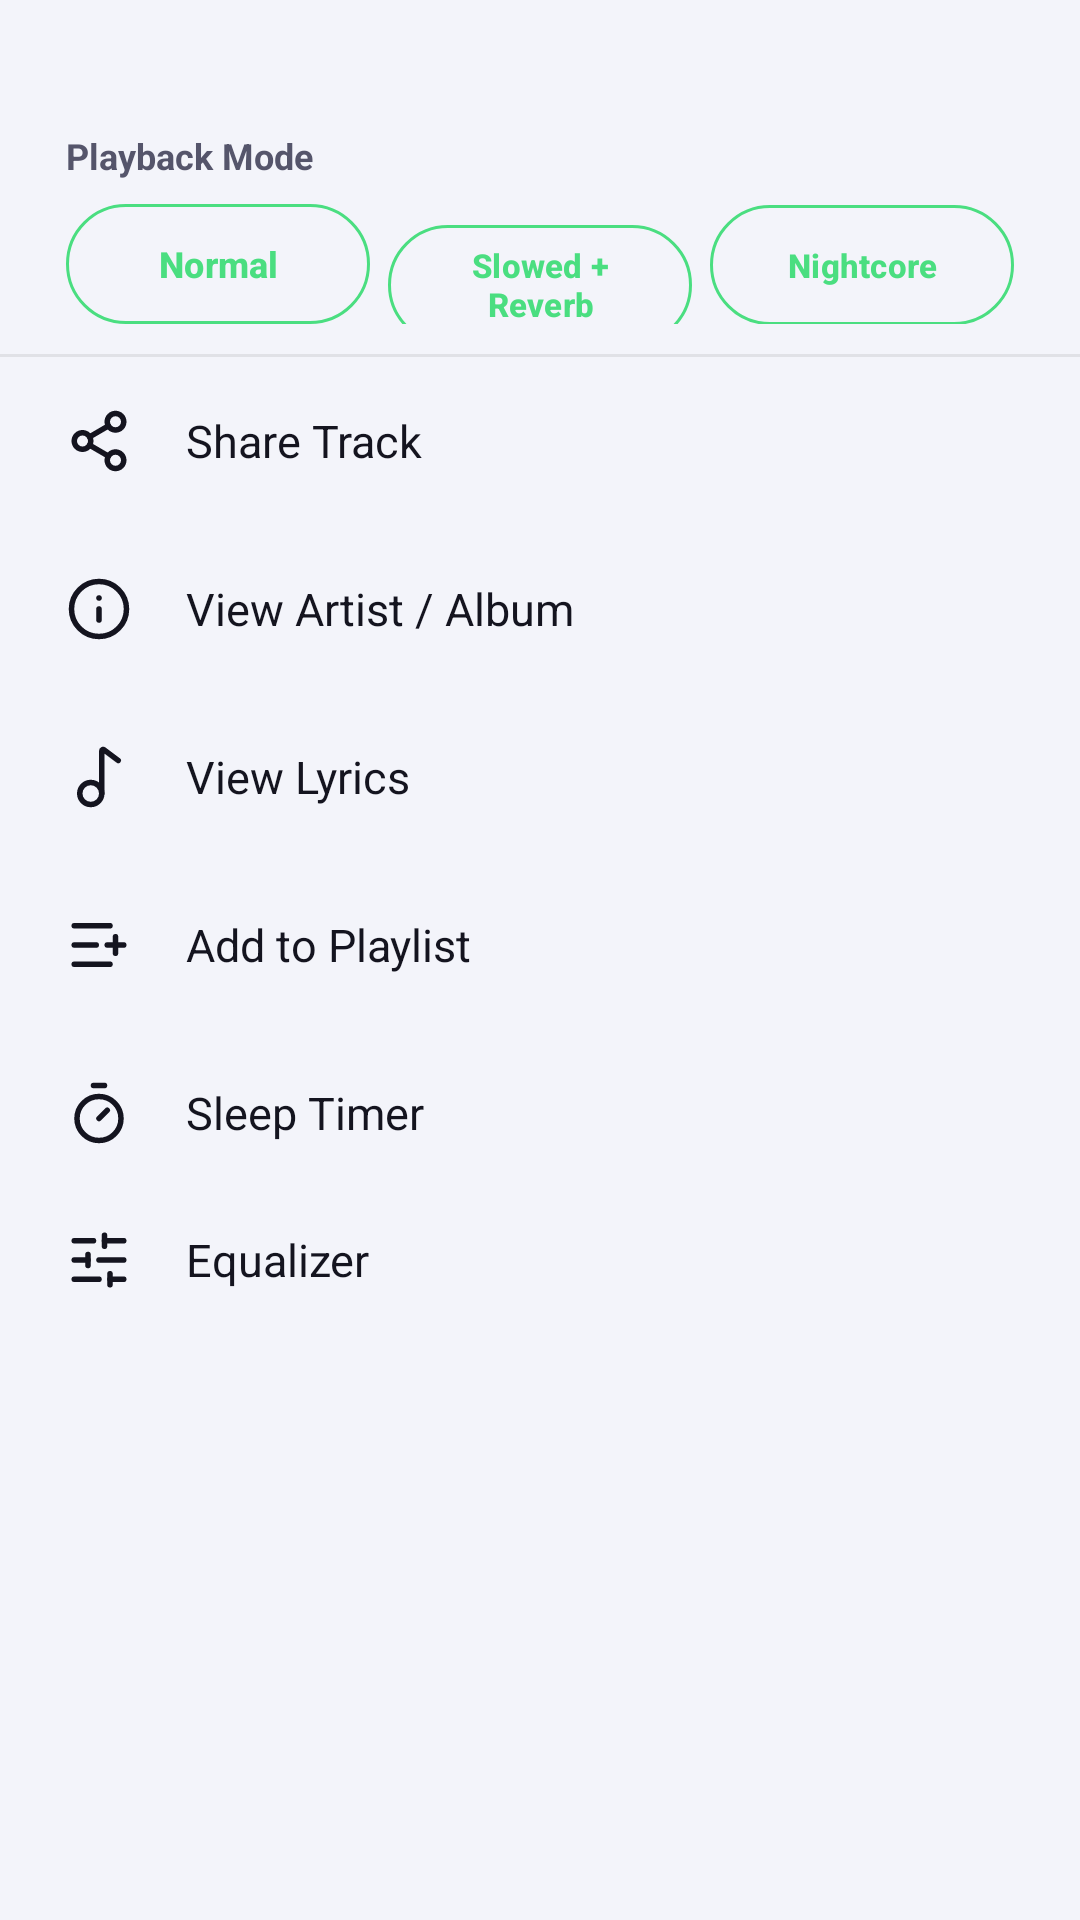

Icon bounding boxes for this 1080px×1920px phone screenshot, format bbox=[x1, y1, x2, y2]:
info: bbox=[68, 578, 130, 640]
music note: bbox=[77, 746, 121, 808]
